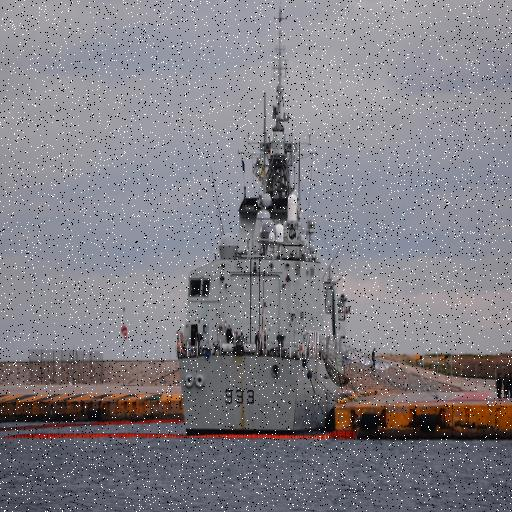Fragata: (179, 1, 351, 440)
